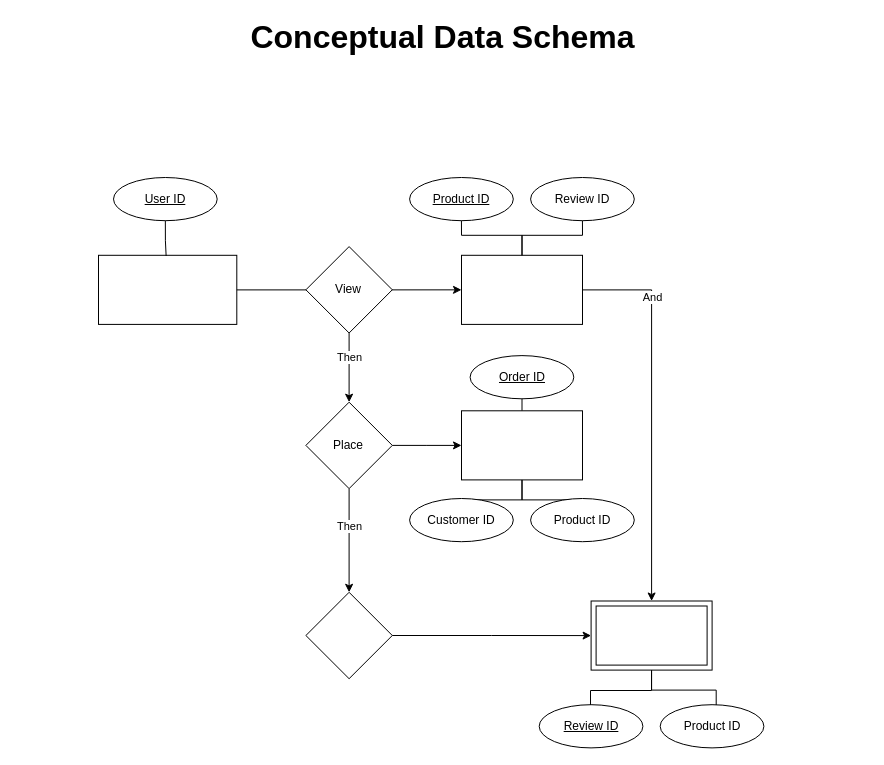
Image size: 884x765. Some labels were removed from this diagram. Each missing label, with the centre of its shape:
Orders: (521,445)
Products: (521,289)
Reviews: (651,635)
Users: (167,289)
Write: (348,635)
